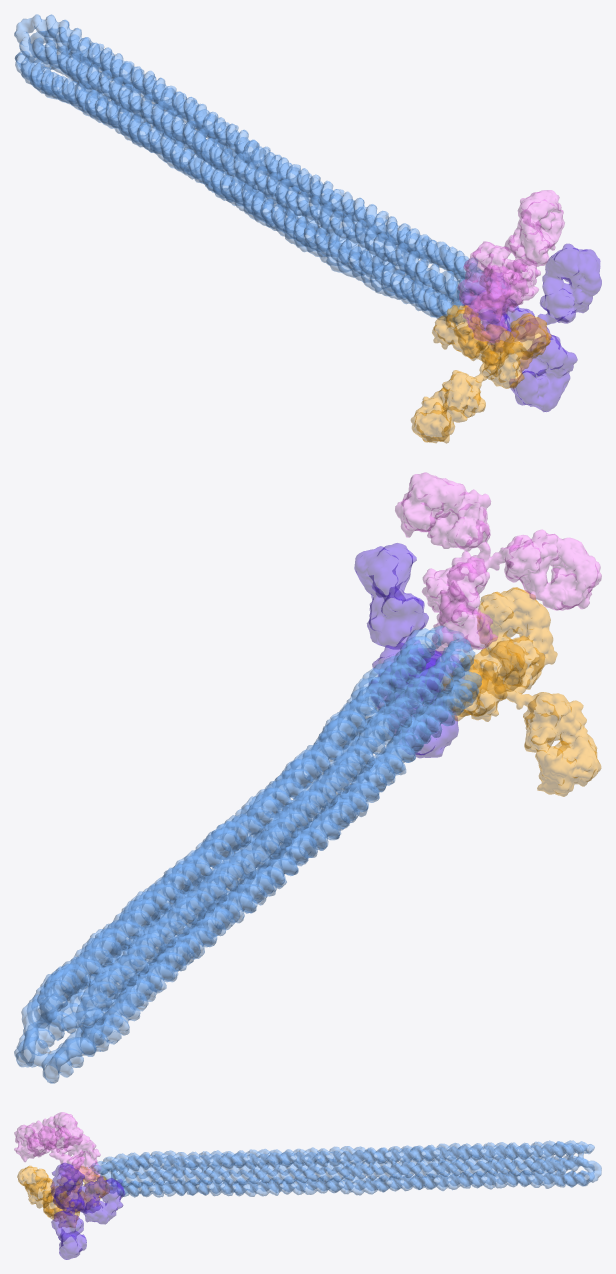
Rendered from amplifier.glb.
3 renders of one model, top to bottom at view 1: azimuth 30°, elevation 25°; view 2: azimuth 150°, elevation 25°; view 3: azimuth 270°, elevation 25°, orthographic. The views are drawn at different scales.
Parts seen in each view (by area): view 1: surface (×4); view 2: surface (×4); view 3: surface (×4).
Boxes of the visible parts, x1,y1,x2,y2 form: surface (×4): (14, 14, 601, 443); surface (×4): (14, 472, 601, 1083); surface (×4): (14, 1112, 601, 1259).
Size of the model in its own units: 210 by 239 by 872.
